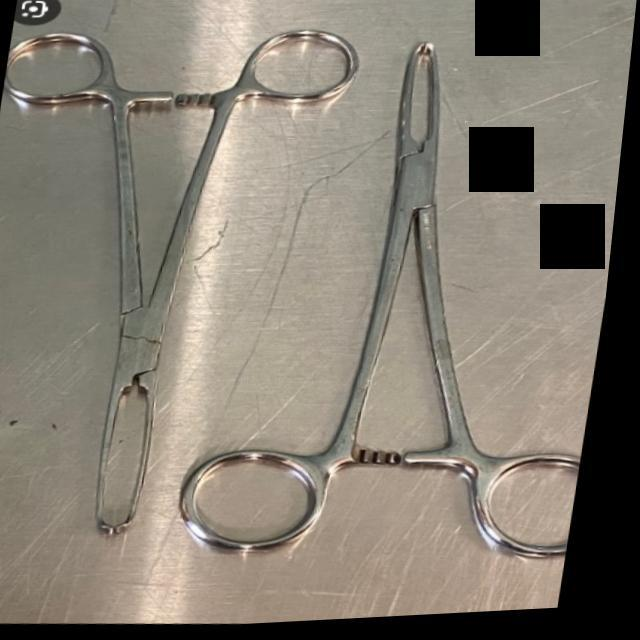Allis Forceps: (173, 13, 637, 588), (0, 4, 382, 564)
